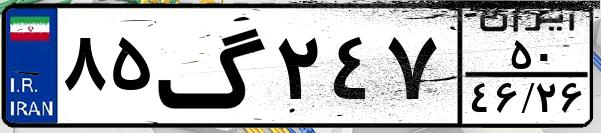0: (537, 27, 568, 80)
2: (270, 28, 330, 110), (535, 70, 560, 125)
4: (330, 28, 385, 110), (470, 70, 495, 125)
5: (110, 28, 156, 98), (508, 27, 537, 80)
6: (560, 70, 590, 125), (495, 70, 520, 125)
7: (385, 28, 445, 110)
8: (57, 26, 110, 100)
گ: (156, 12, 270, 120)
